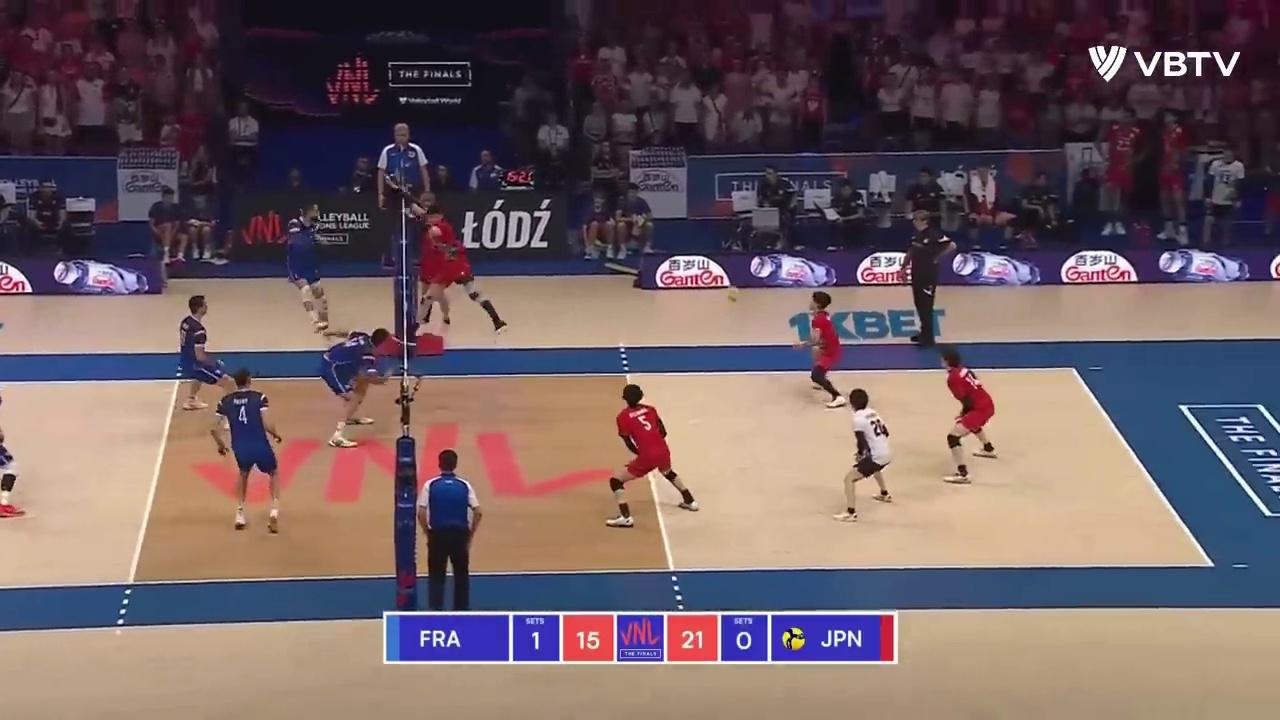ball: (727, 287, 739, 300)
